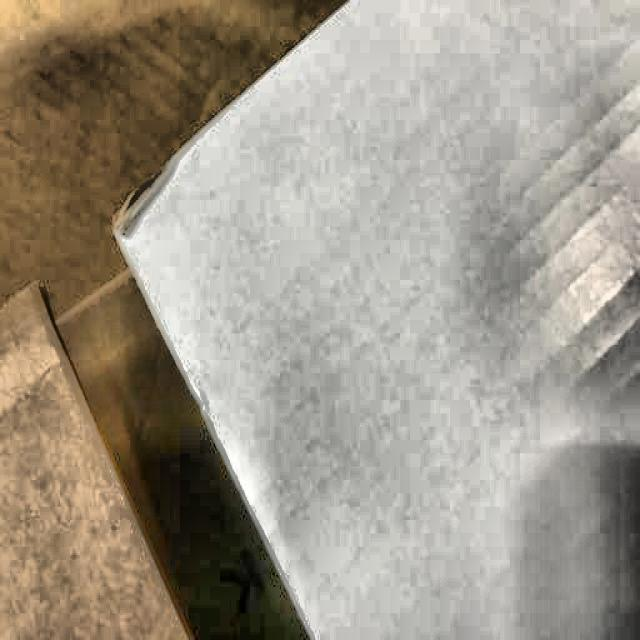cardboard: (7, 8, 636, 637)
